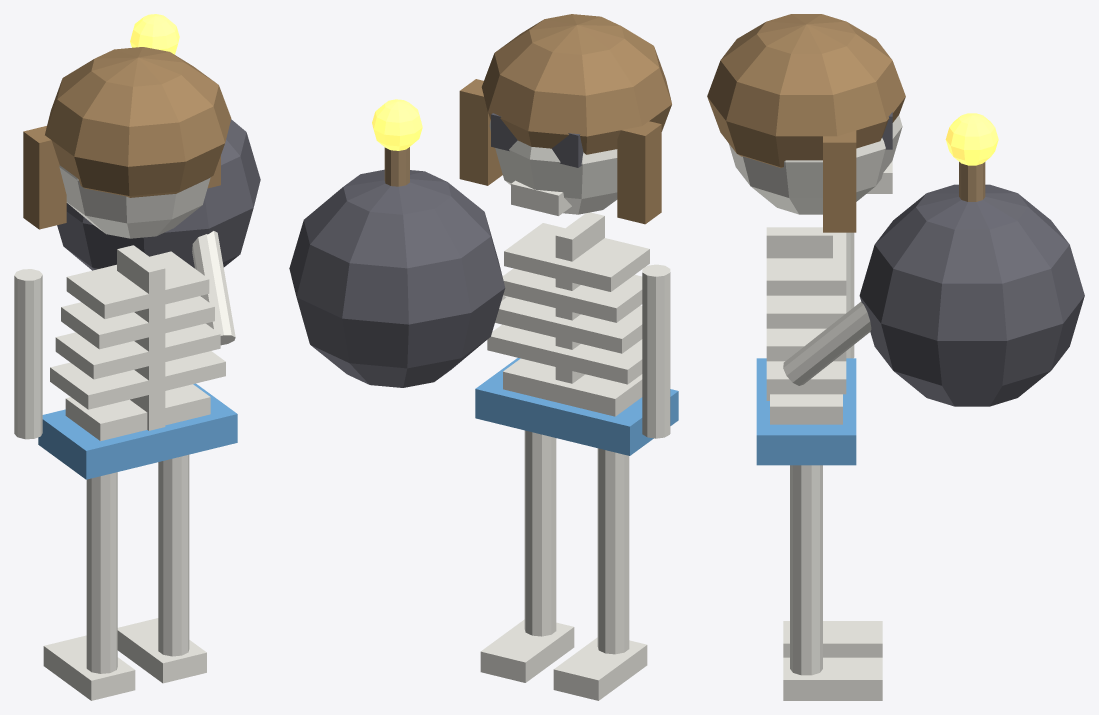
Rendered from giant_skeleton.glb.
The picture shows the model from 3 angles, left to right: view 1: azimuth 30°, elevation 25°; view 2: azimuth 150°, elevation 25°; view 3: azimuth 270°, elevation 25°; orthographic projection. The views are drawn at different scales.
Visible parts, largest first — view 1: giant_skeleton; view 2: giant_skeleton; view 3: giant_skeleton.
Boxes of the visible parts, bbox=[...] form: giant_skeleton: bbox=[14, 14, 260, 700]; giant_skeleton: bbox=[289, 14, 678, 700]; giant_skeleton: bbox=[707, 14, 1084, 700].
Size of the model in its own units: 1.37 by 2.8 by 1.48.
